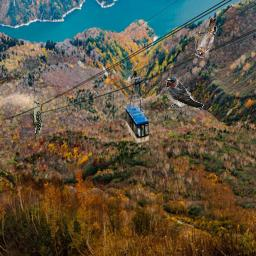Swallow: (164, 76, 204, 111), (195, 18, 218, 58)
Woodpecker: (30, 101, 42, 141)
